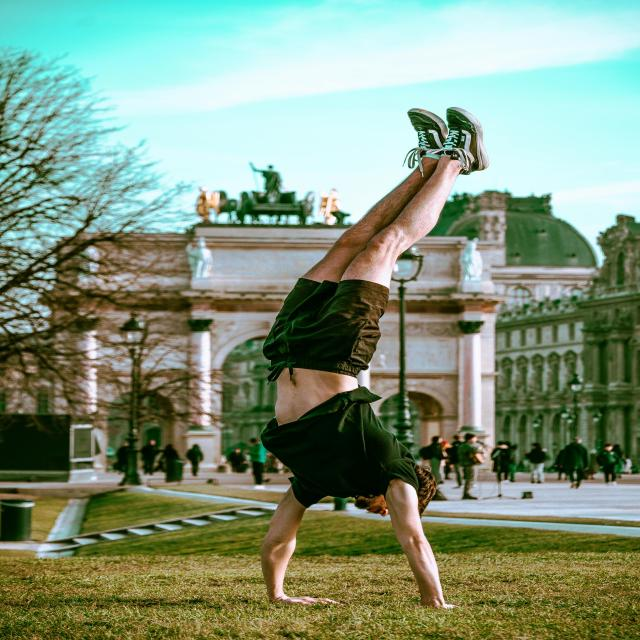stand: (251, 100, 486, 630)
